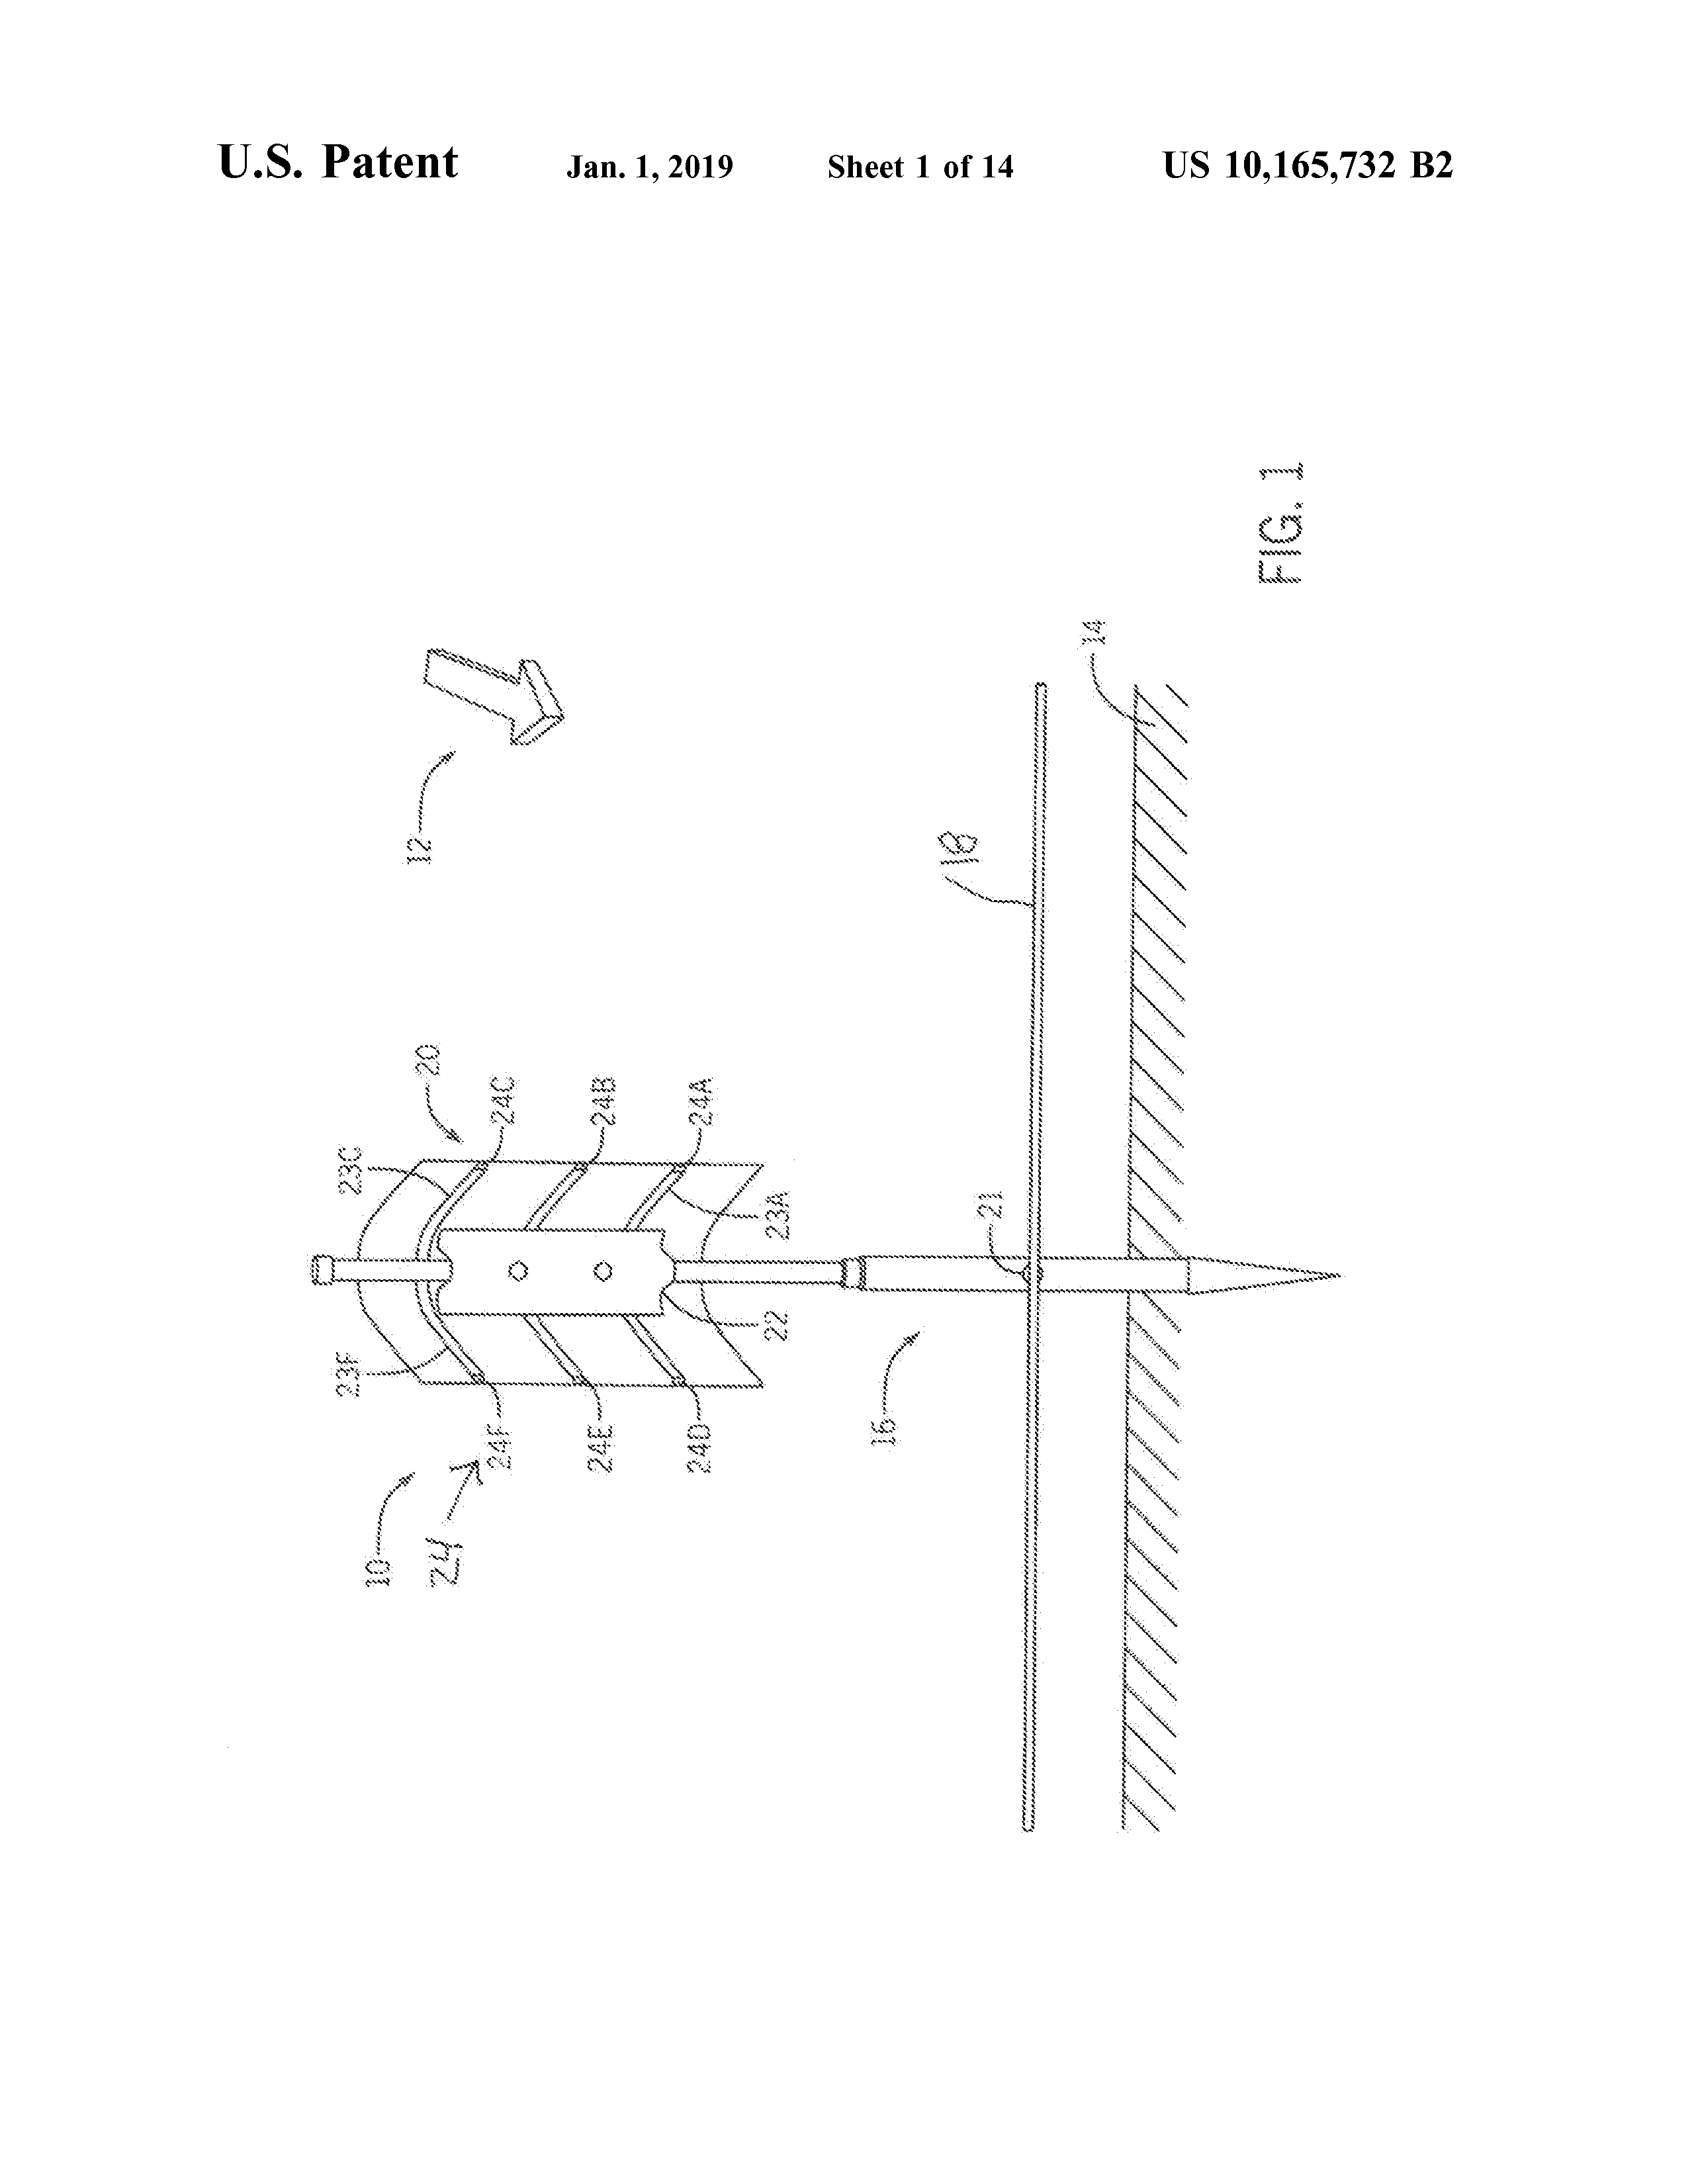patent image: (292, 406, 1421, 1873)
